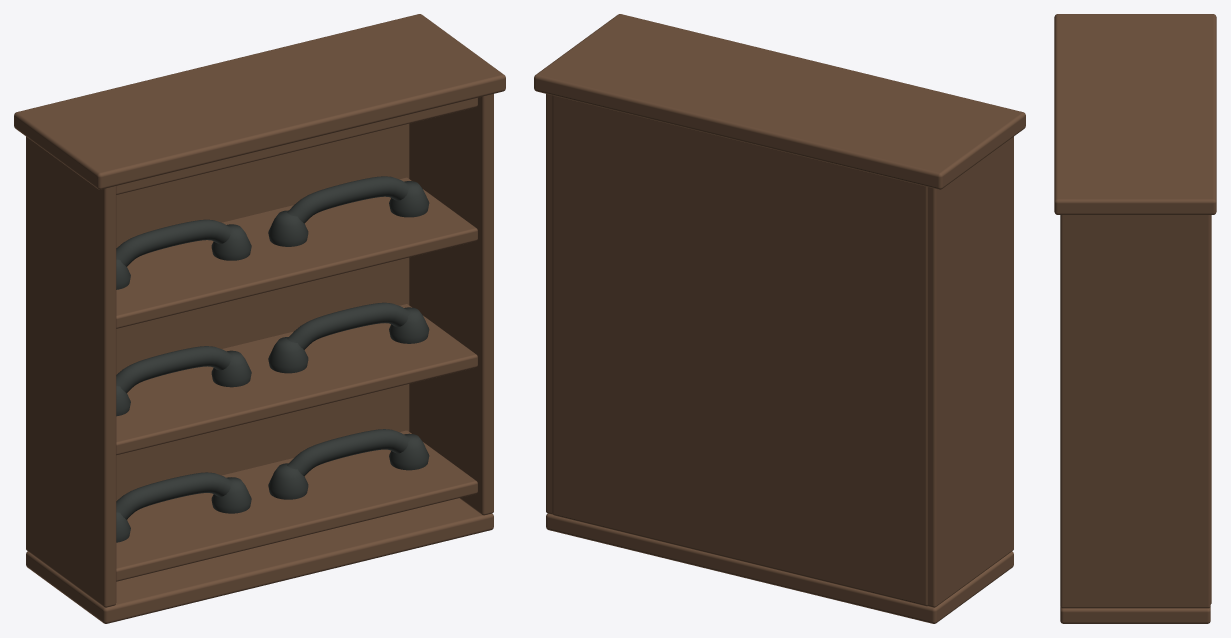
The model's file is abandoned-telephone-exchange-spare-handset-cabinet-b49b93de__32018.glb.
3 views of the same model, side by side, from view 1: azimuth 30°, elevation 25°; view 2: azimuth 150°, elevation 25°; view 3: azimuth 270°, elevation 25° (orthographic). The views are drawn at different scales.
Visible parts, largest first — view 1: spare-handset-cabinet; view 2: spare-handset-cabinet; view 3: spare-handset-cabinet.
Boxes of the visible parts, x1,y1,x2,y2 form: spare-handset-cabinet: [14, 14, 505, 623]; spare-handset-cabinet: [534, 14, 1025, 623]; spare-handset-cabinet: [1054, 14, 1216, 623].
Size of the model in its own units: 1.15 by 1.23 by 0.4199.
